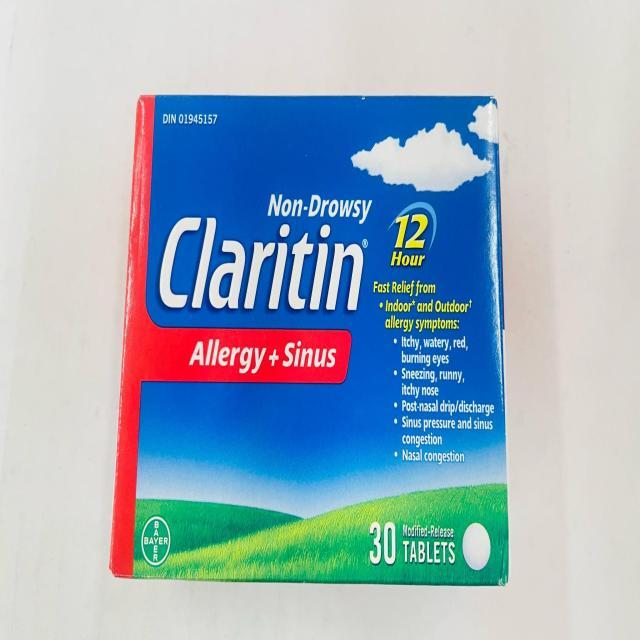Medicine Name: (153, 216, 365, 323)
